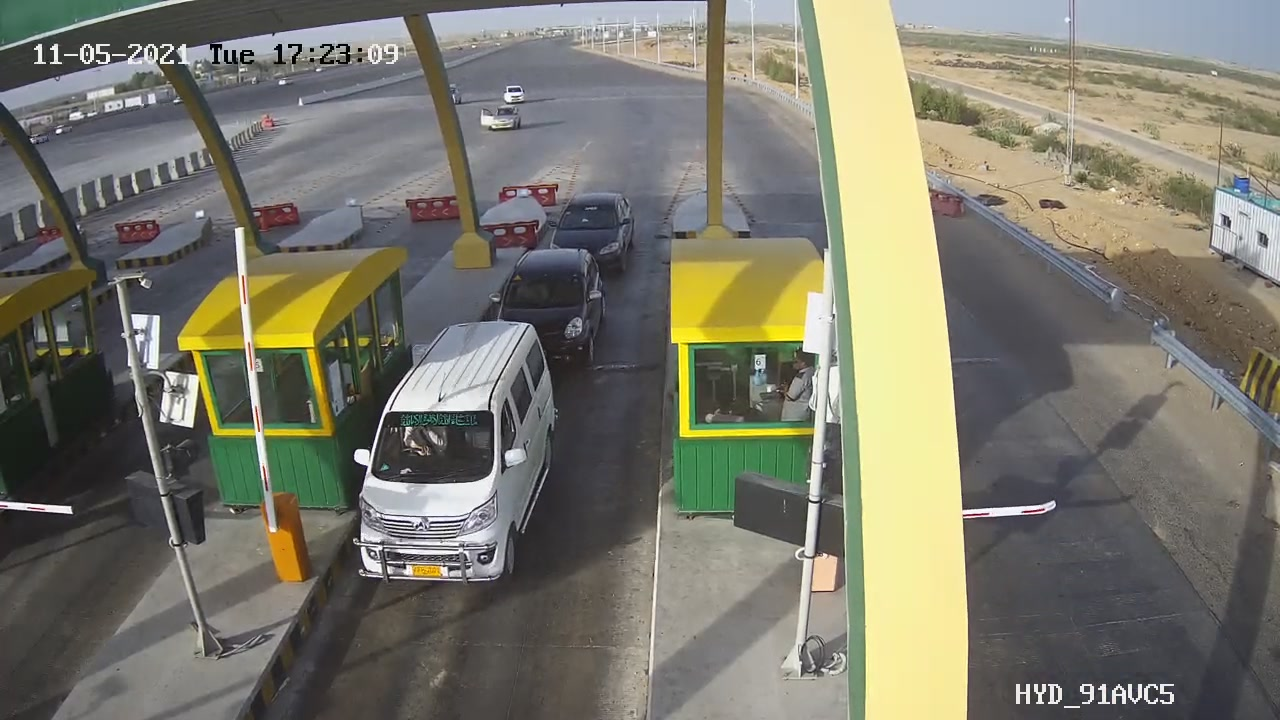F1: (535, 182, 650, 282)
